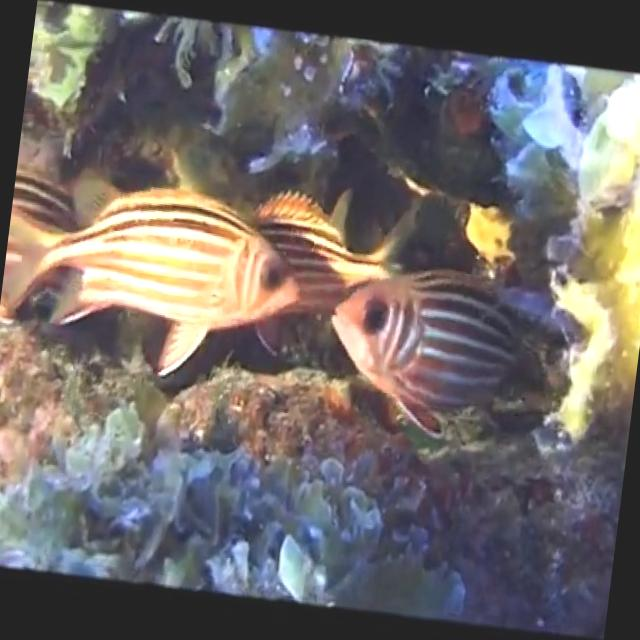Asker Baligi: (0, 159, 319, 382), (308, 244, 544, 446)
